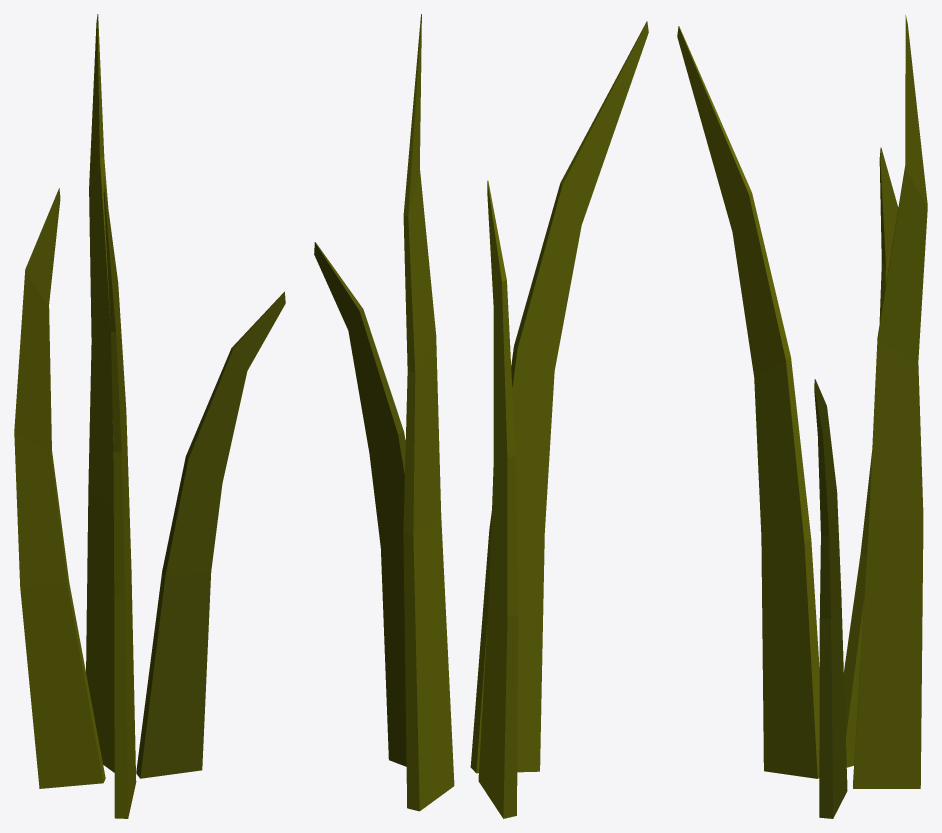
Rendered from PrairieGrass(1).fbx.
3 renders of one model, left to right at view 1: azimuth 30°, elevation 25°; view 2: azimuth 150°, elevation 25°; view 3: azimuth 270°, elevation 25°, orthographic. The views are drawn at different scales.
Visible parts, largest first — view 1: PrairieGrass(1); view 2: PrairieGrass(1); view 3: PrairieGrass(1).
Boxes of the visible parts, x1,y1,x2,y2 form: PrairieGrass(1): [14, 14, 285, 818]; PrairieGrass(1): [314, 14, 648, 818]; PrairieGrass(1): [677, 15, 927, 818].
Bounding box in the file's own units: 0.5282 × 1.52 × 0.4442.
